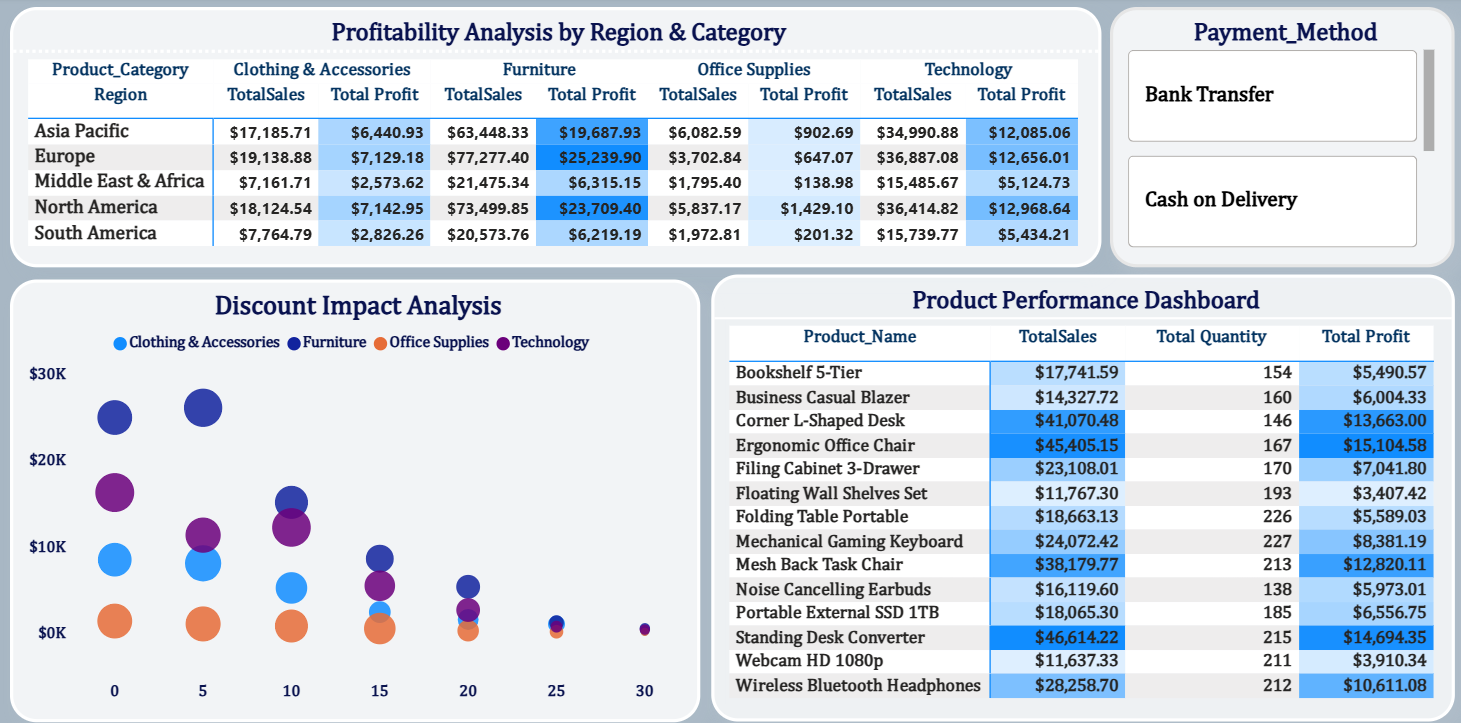

The dashboard page shown, as its layout file describes it:
{"tool":"powerbi","page":{"name":"Page 2","canvas":[1100,550],"ordinal":1},"visuals":[{"type":"pivotTable","title":"Profitability Analysis by Region & Category","fields":{"Rows":["global_ecommerce_sales.Region"],"Columns":["global_ecommerce_sales.Product_Category"],"Values":["global_ecommerce_sales.TotalSales","global_ecommerce_sales.Total Profit"]},"box":[7.5,7.5,818.3,195],"z":0},{"type":"scatterChart","title":"Discount Impact Analysis","fields":{"X":["global_ecommerce_sales.Discount_Percent"],"Y":["global_ecommerce_sales.Total Profit"],"Size":["Sum(global_ecommerce_sales.Quantity)"],"Series":["global_ecommerce_sales.Product_Category"]},"box":[7.5,211.8,517.4,331.8],"z":1000},{"type":"advancedSlicerVisual","fields":{"Values":["global_ecommerce_sales.Payment_Method"]},"box":[832.3,7.5,258.7,195],"z":2000},{"type":"pivotTable","title":"Product Performance Dashboard","fields":{"Rows":["global_ecommerce_sales.Product_Name"],"Values":["global_ecommerce_sales.TotalSales","Sum(global_ecommerce_sales.Quantity)","global_ecommerce_sales.Total Profit"]},"box":[533.5,208.4,557.2,335.4],"z":3000}]}

Visuals, with their boxes in screenshot pixels (x1, y1, x2, y2), scaled from the page's 1100x550 canvas onto the 1461x723 screenshot:
"Profitability Analysis by Region & Category" pivotTable: 10:10:1097:266
"Discount Impact Analysis" scatterChart: 10:278:697:715
advancedSlicerVisual - global_ecommerce_sales.Payment_Method: 1105:10:1449:266
"Product Performance Dashboard" pivotTable: 709:274:1449:715
